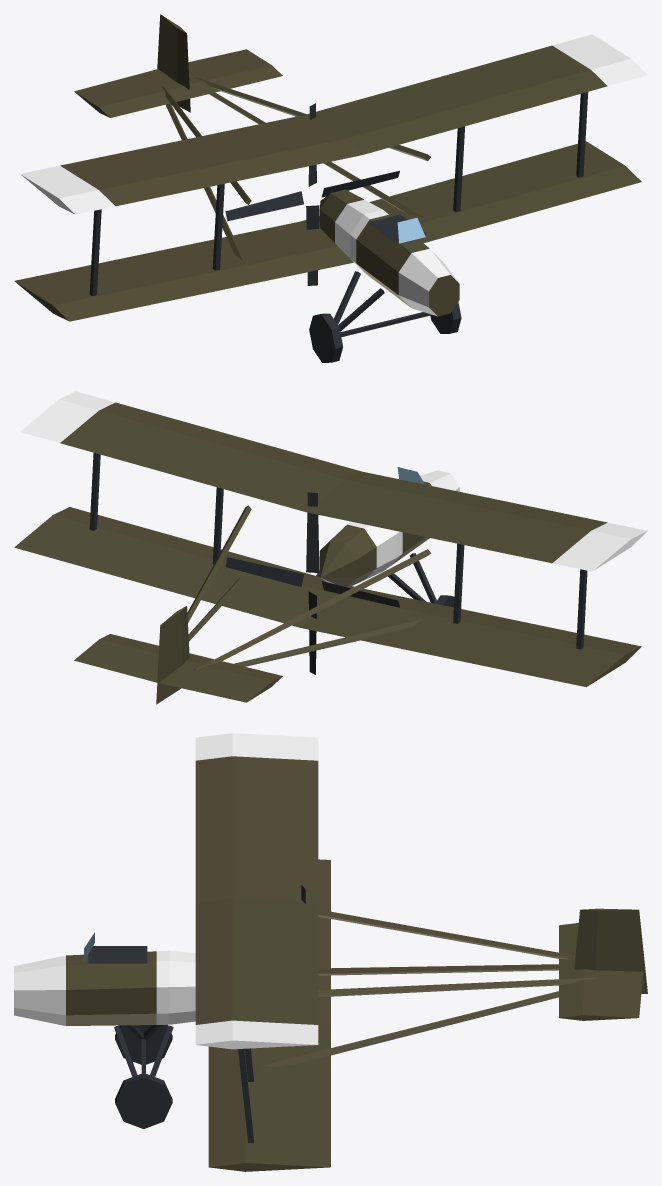
The model's file is airco_dh2_lod.glb.
The picture shows the model from 3 angles, top to bottom: view 1: azimuth 30°, elevation 25°; view 2: azimuth 150°, elevation 25°; view 3: azimuth 270°, elevation 25°; orthographic projection. The views are drawn at different scales.
Parts seen in each view (by area): view 1: body, prop; view 2: body, prop; view 3: body.
Part boxes in pixels (x1,y1,x2,y2): body: [14, 14, 647, 362]; prop: [225, 103, 399, 285]; body: [14, 391, 647, 704]; prop: [225, 492, 399, 674]; body: [14, 733, 647, 1171].
Bounding box in the file's own units: 8.61 × 2.73 × 7.51.
